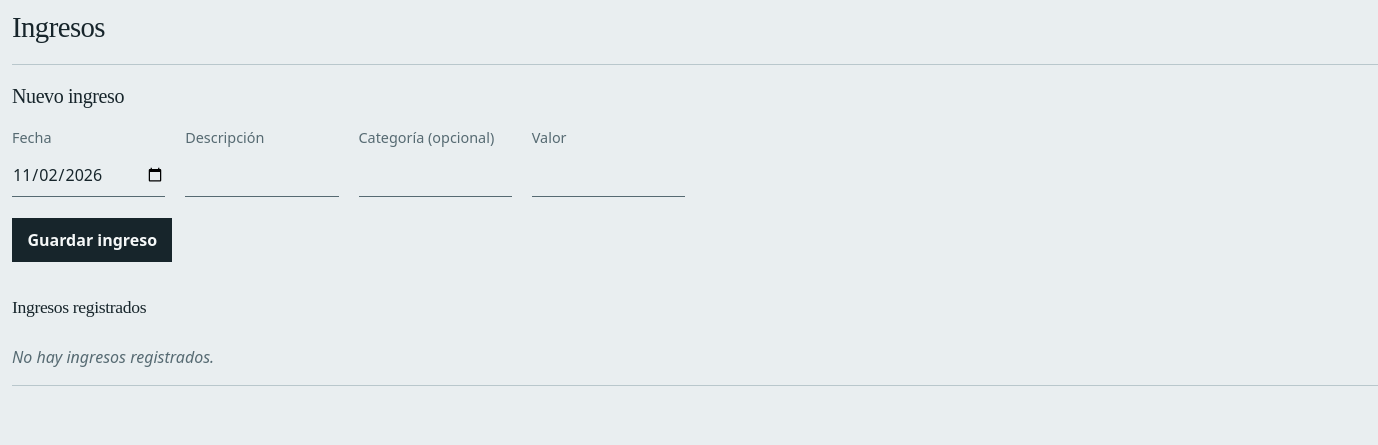
Test: IncomeSection › shows an error when saving fails
Type "Salario" into the field labelled "Descripción".
click(262, 176); type("Salario")  # box top-left (185, 155), bottom-right (339, 197)
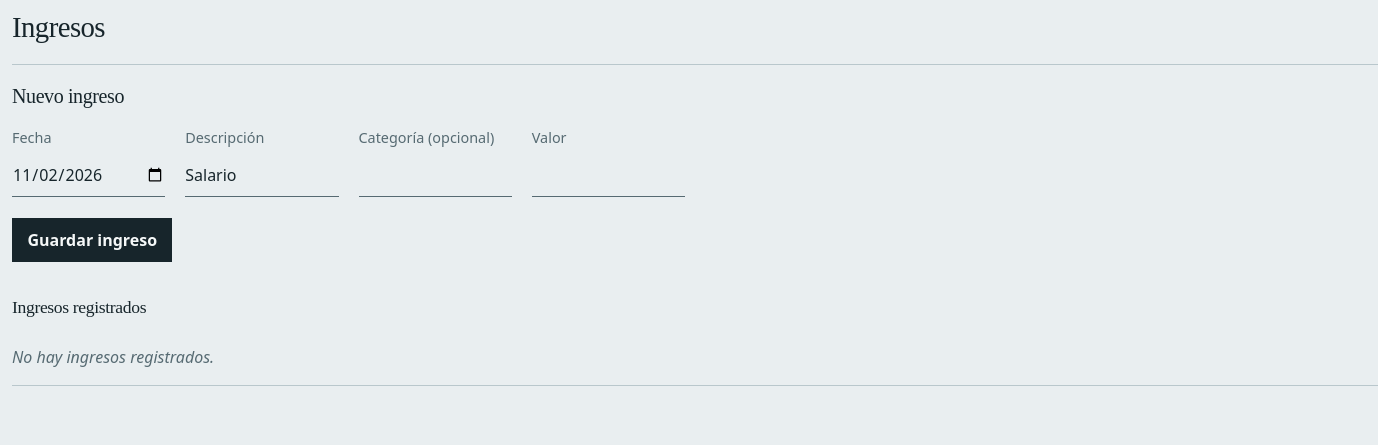
Type "1500.50" into the number field labelled "Valor".
click(608, 176); type("1500.50")  # box top-left (532, 155), bottom-right (685, 197)
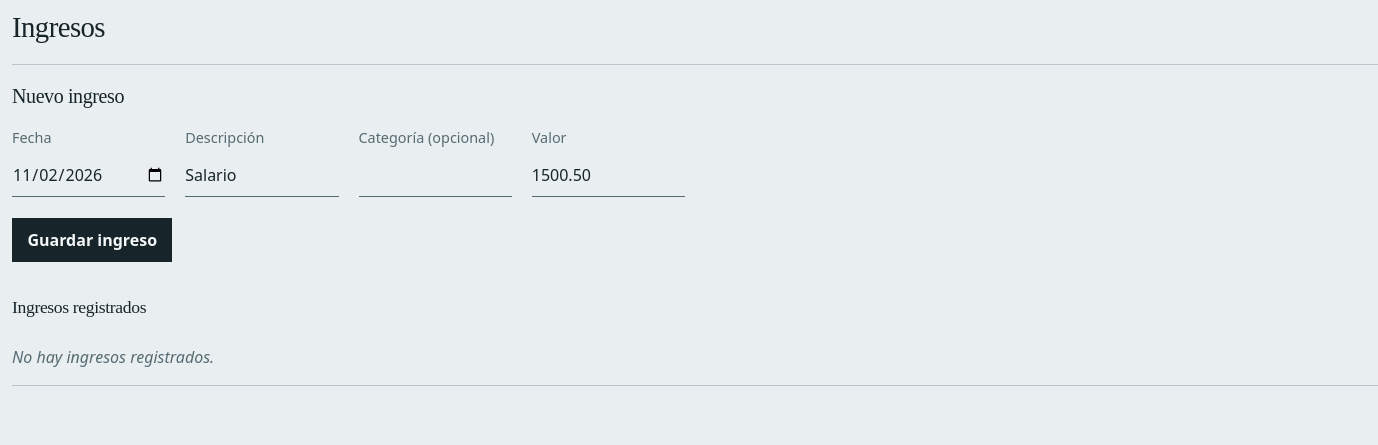
Click the button "Guardar ingreso".
click(92, 240)  # box top-left (12, 218), bottom-right (172, 262)
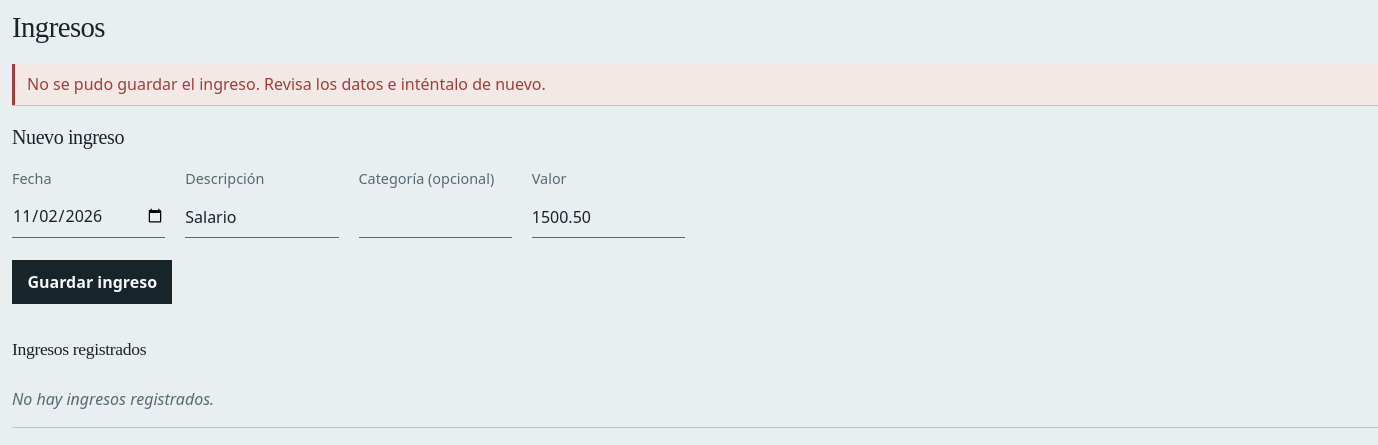
Expected: the message shows "No se pudo guardar el ingreso.", top-left (27, 74), bottom-right (546, 96)
